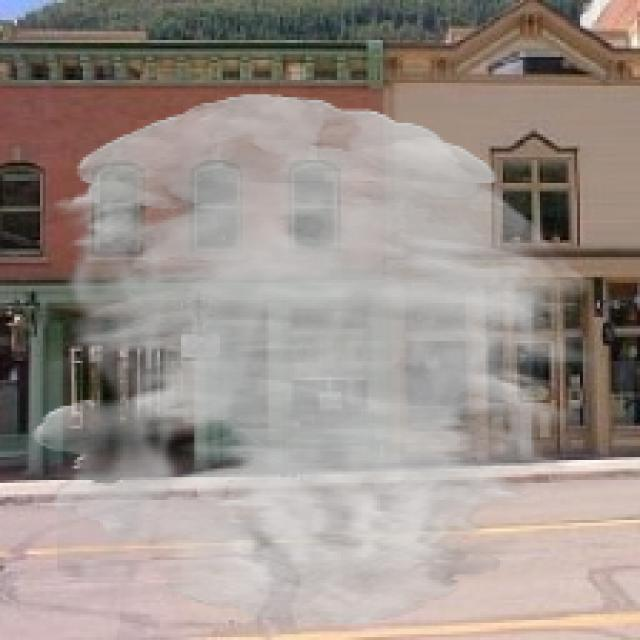Smoke: (31, 94, 600, 626)
